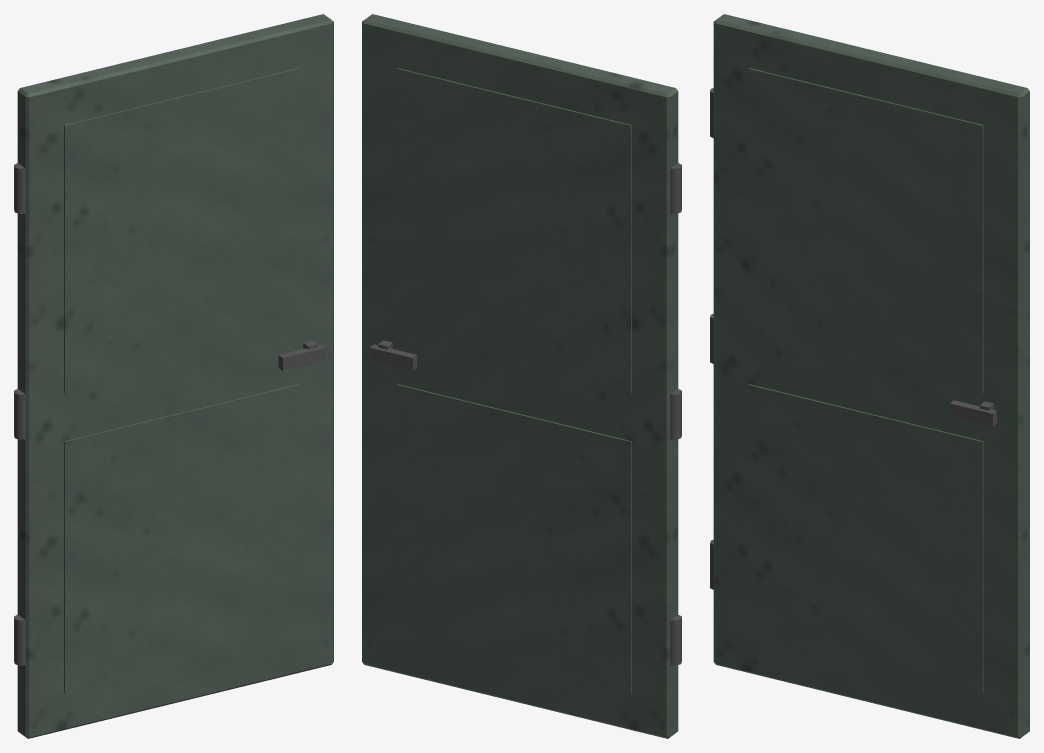
File: door_metal.glb
3 renders of one model, left to right at view 1: azimuth 30°, elevation 25°; view 2: azimuth 150°, elevation 25°; view 3: azimuth 330°, elevation 25°, orthographic.
Parts seen in each view (by area): view 1: leaf, iron; view 2: leaf, iron; view 3: leaf, iron.
Part boxes in pixels (x1,y1,x2,y2): leaf: (17, 14, 333, 738); iron: (14, 163, 325, 665); leaf: (362, 14, 678, 738); iron: (370, 163, 681, 665); leaf: (713, 14, 1029, 738); iron: (710, 88, 996, 589).
Bounding box in the file's own units: 1.02 × 2 × 0.164.
Materials: 2 (1 with a texture image).
